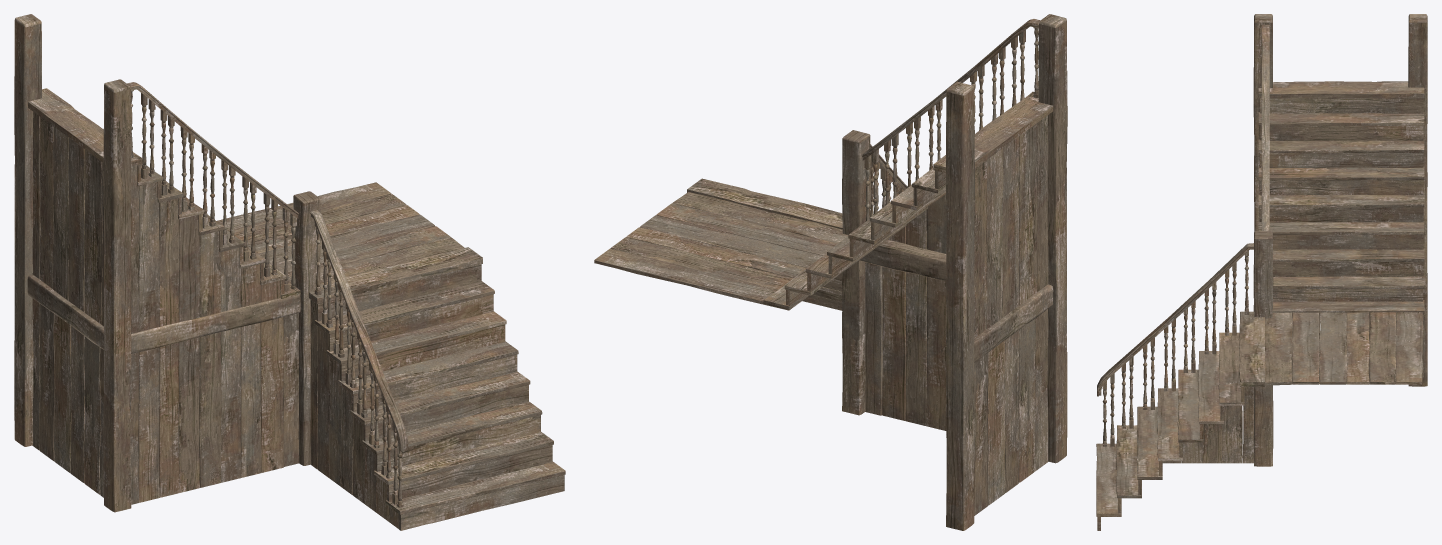
Rendered from SM_Staircase_Corner.fbx.
3 views of the same model, side by side, from view 1: azimuth 30°, elevation 25°; view 2: azimuth 150°, elevation 25°; view 3: azimuth 270°, elevation 25° (orthographic). The views are drawn at different scales.
Visible parts, largest first — view 1: SM_Staircase_Corner_LOD0; view 2: SM_Staircase_Corner_LOD0; view 3: SM_Staircase_Corner_LOD0.
Part boxes in pixels (bbox=[...]): SM_Staircase_Corner_LOD0: bbox=[14, 14, 565, 530]; SM_Staircase_Corner_LOD0: bbox=[594, 14, 1067, 530]; SM_Staircase_Corner_LOD0: bbox=[1096, 14, 1427, 530].
Size of the model in its own units: 441 by 404 by 493.
1 material, 1 textured.
